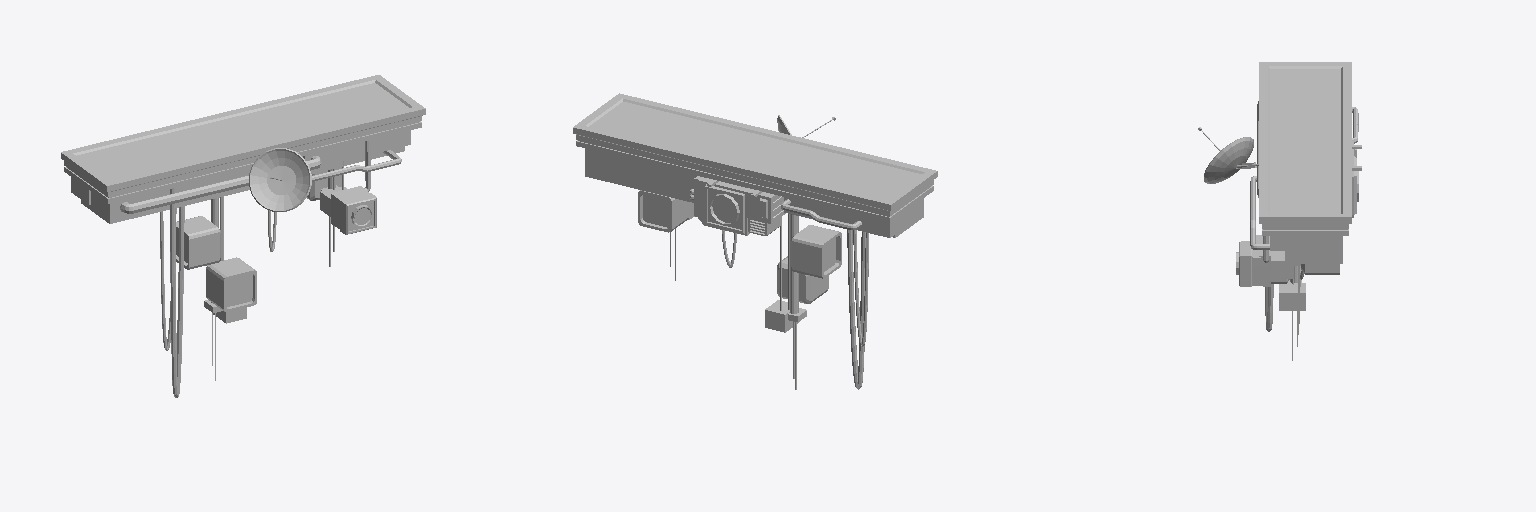
The model's file is Platform_4x1_Cube_065.obj.
The picture shows the model from 3 angles: view 1: azimuth 30°, elevation 25°; view 2: azimuth 150°, elevation 25°; view 3: azimuth 270°, elevation 25°; orthographic projection.
Parts seen in each view (by area): view 1: Platform_4x1_Cube.065; view 2: Platform_4x1_Cube.065; view 3: Platform_4x1_Cube.065.
Boxes of the visible parts, x1,y1,x2,y2 form: Platform_4x1_Cube.065: [61, 75, 425, 397]; Platform_4x1_Cube.065: [573, 93, 937, 389]; Platform_4x1_Cube.065: [1198, 62, 1361, 360].
Bounding box in the file's own units: 3.86 × 2.81 × 1.73.